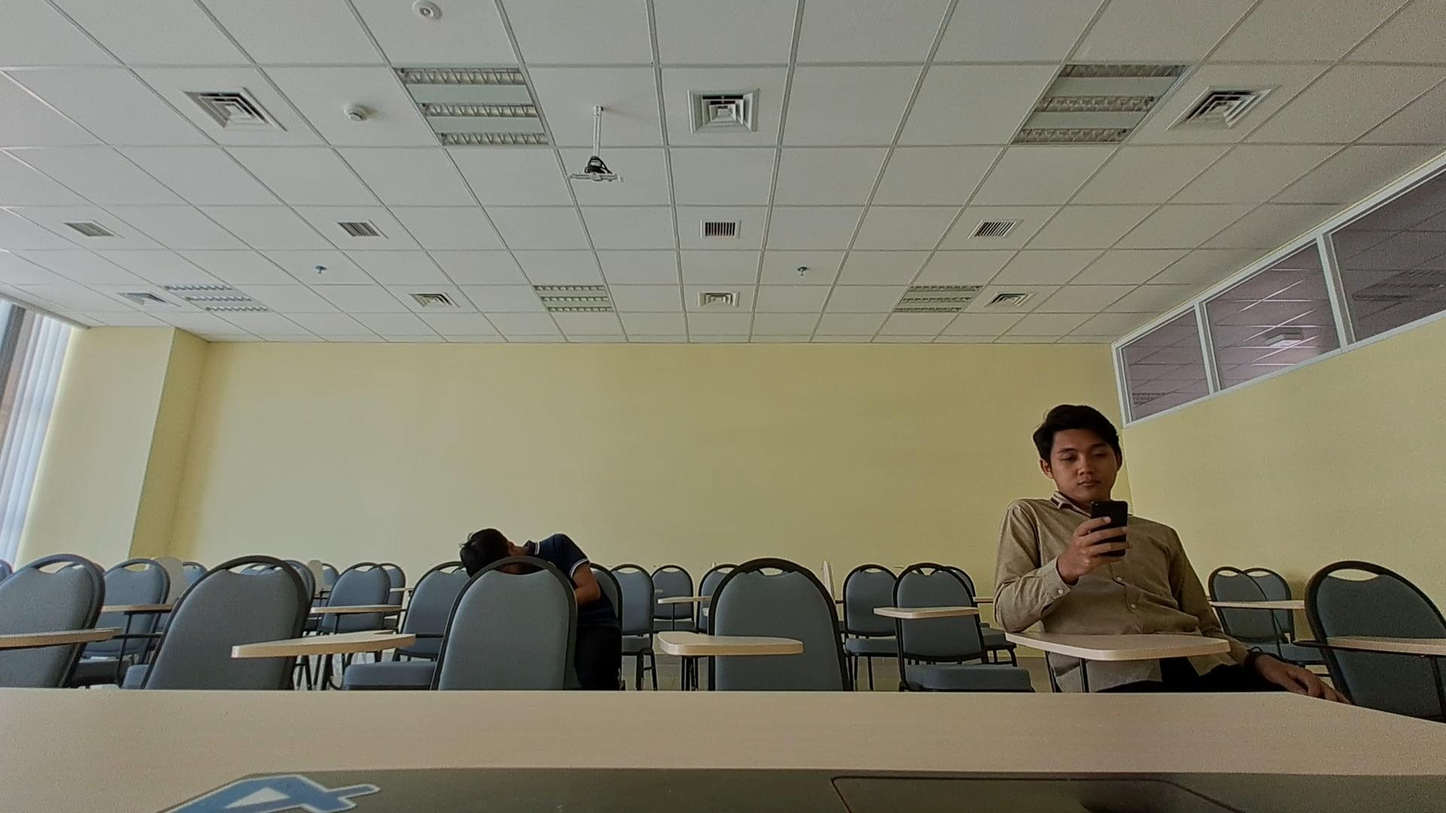phone: (977, 401, 1224, 640)
sleep: (458, 516, 601, 612)
